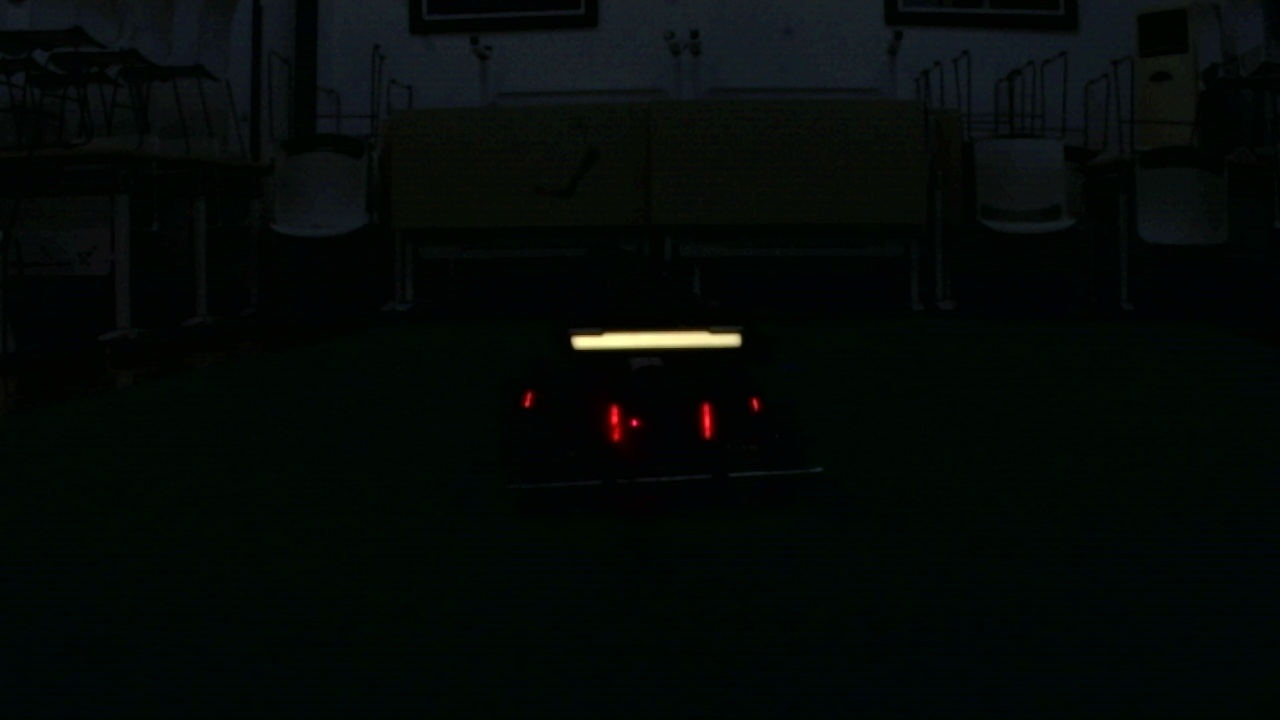lamp: (608, 402, 622, 446), (700, 402, 716, 440), (744, 391, 761, 416)
pair1: (608, 406, 713, 439)
